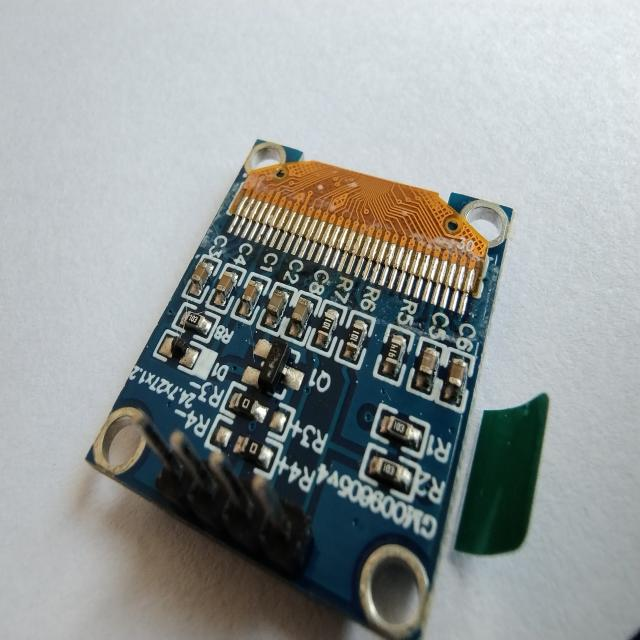oled: (82, 122, 560, 640)
